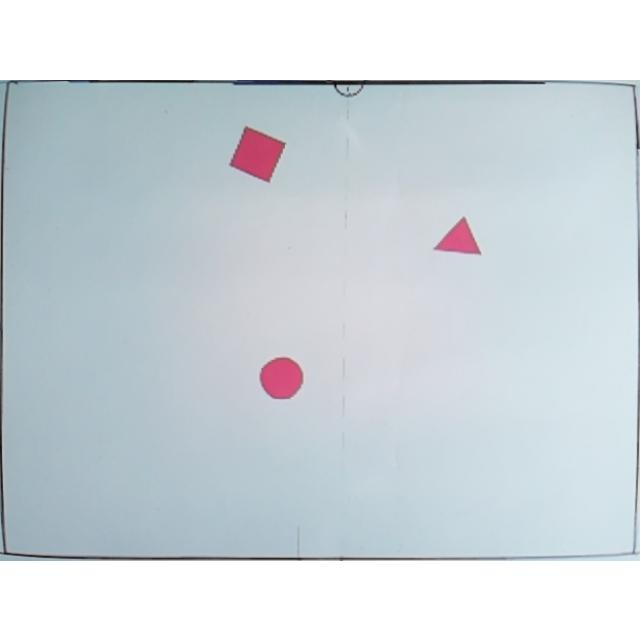pinkCircle: (260, 355, 304, 399)
pinkSquare: (230, 126, 288, 182)
pinkTriangle: (430, 214, 484, 256)
